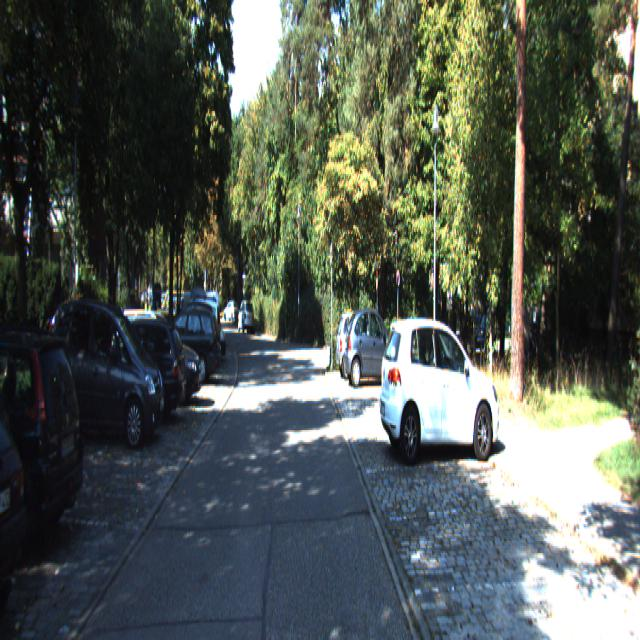Car: (0, 318, 87, 568), (40, 283, 164, 442), (376, 310, 501, 460), (80, 315, 187, 429), (111, 304, 203, 406), (152, 301, 220, 383), (342, 306, 402, 392), (335, 307, 388, 381), (237, 300, 254, 334)
